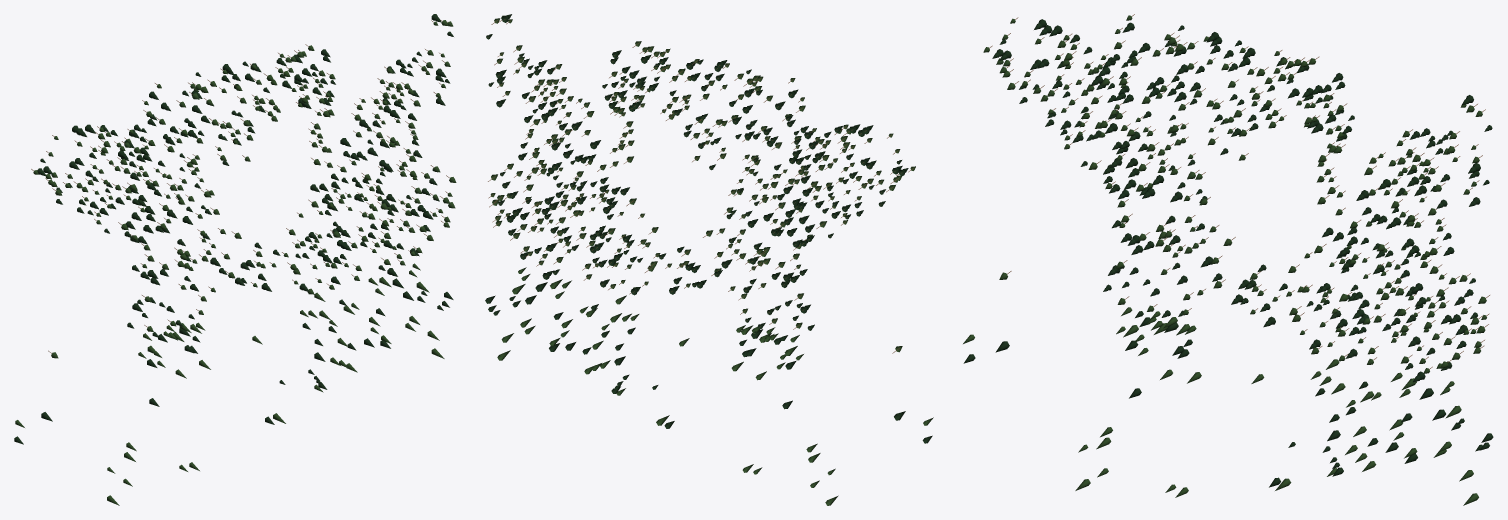
Rendered from forest_4.obj.
The picture shows the model from 3 angles, left to right: view 1: azimuth 30°, elevation 25°; view 2: azimuth 150°, elevation 25°; view 3: azimuth 330°, elevation 25°; orthographic projection. The views are drawn at different scales.
Bounding box in the file's own units: 551 × 495 × 32.02.
